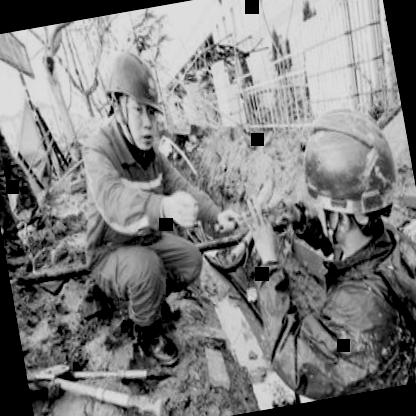helmet: (279, 78, 416, 266), (92, 36, 176, 163)
